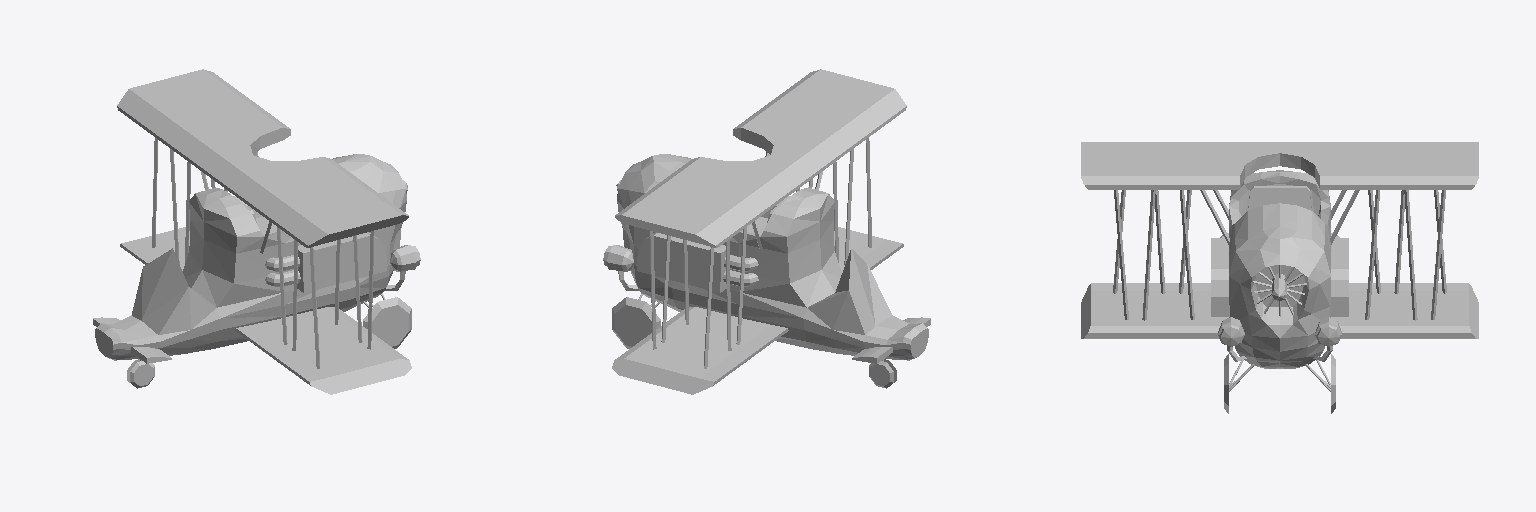
The model's file is plgabo.obj.
3 renders of one model, left to right at view 1: azimuth 30°, elevation 25°; view 2: azimuth 150°, elevation 25°; view 3: azimuth 270°, elevation 25°, orthographic.
Visible parts, largest first — view 1: Krulya2; view 2: Krulya2; view 3: Krulya2.
Boxes of the visible parts, <box> form: Krulya2: <box>93,69,420,394</box>; Krulya2: <box>603,69,930,394</box>; Krulya2: <box>1081,142,1478,413</box>.
Size of the model in its own units: 8.07 by 5.19 by 9.17.